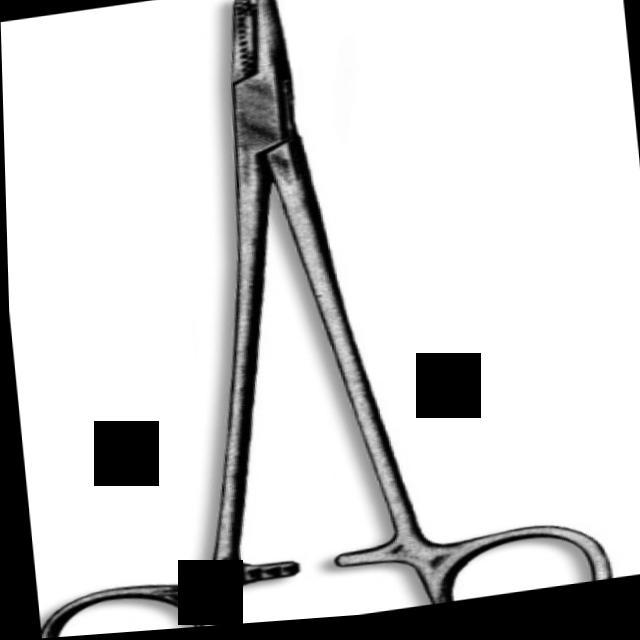Needle Holder: (0, 0, 624, 640)
